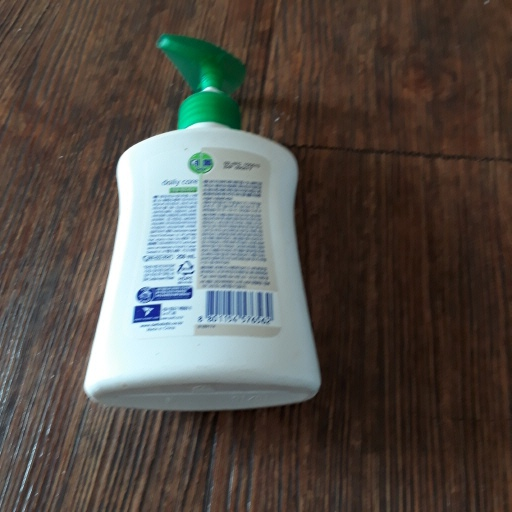Plastic_3: (85, 34, 325, 414)
